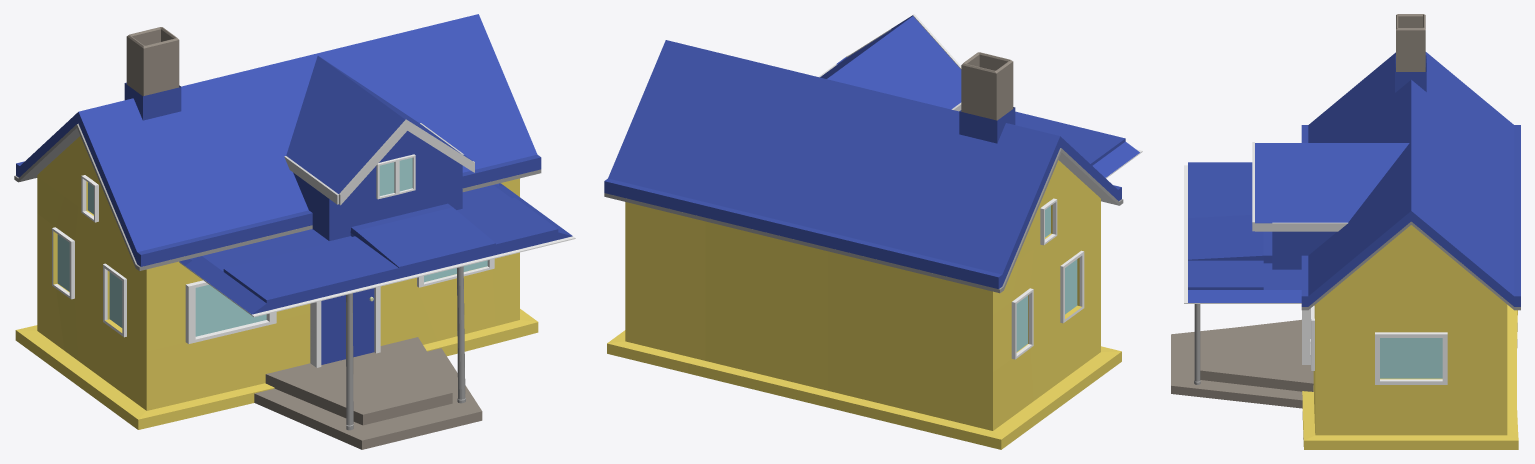
Rendered from House.fbx.
3 views of the same model, side by side, from view 1: azimuth 30°, elevation 25°; view 2: azimuth 150°, elevation 25°; view 3: azimuth 270°, elevation 25° (orthographic). The views are drawn at different scales.
Visible parts, largest first — view 1: roof1; view 2: roof1; view 3: roof1.
Boxes of the visible parts, <box> form: roof1: <box>14,14,575,449</box>; roof1: <box>604,14,1142,449</box>; roof1: <box>1171,14,1520,449</box>.
Size of the model in its own units: 1497 by 1180 by 1287.
